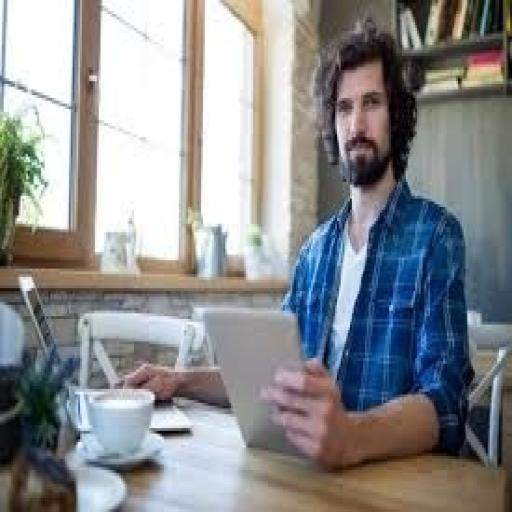using_laptop: (199, 302, 322, 462)
